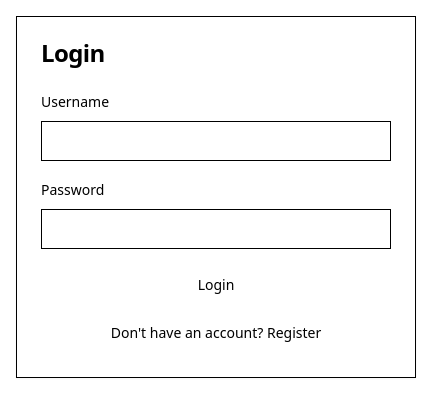
Test case: AuthPage › switches between login and register modes
The image size is (433, 395).
Expected: the heading "Login" is shown, [41,36,105,69]
Note: Switch to register mode
Click the button "Don't have an account? Register" at (216, 333), box [41,313,391,353]
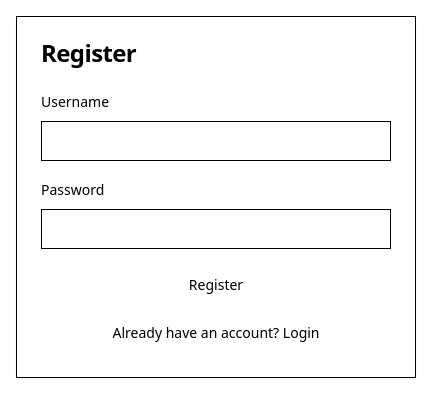
Now the heading "Register" is shown, box [41,36,136,69]
